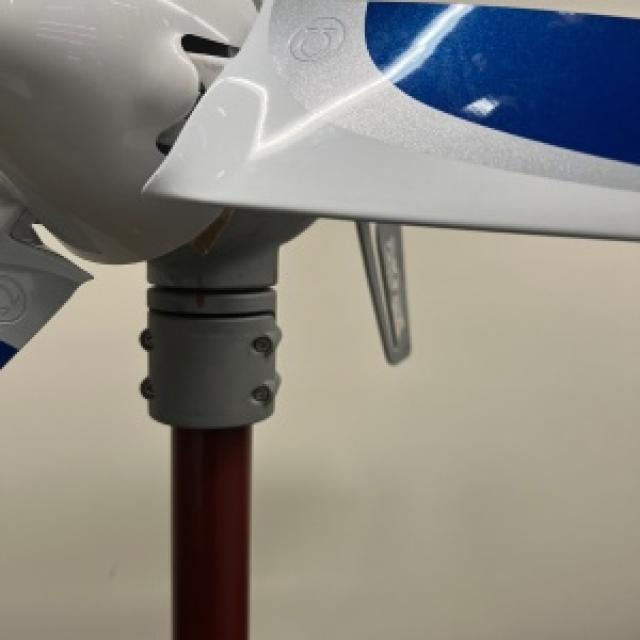healthy: (250, 218, 638, 638), (0, 235, 166, 638)
